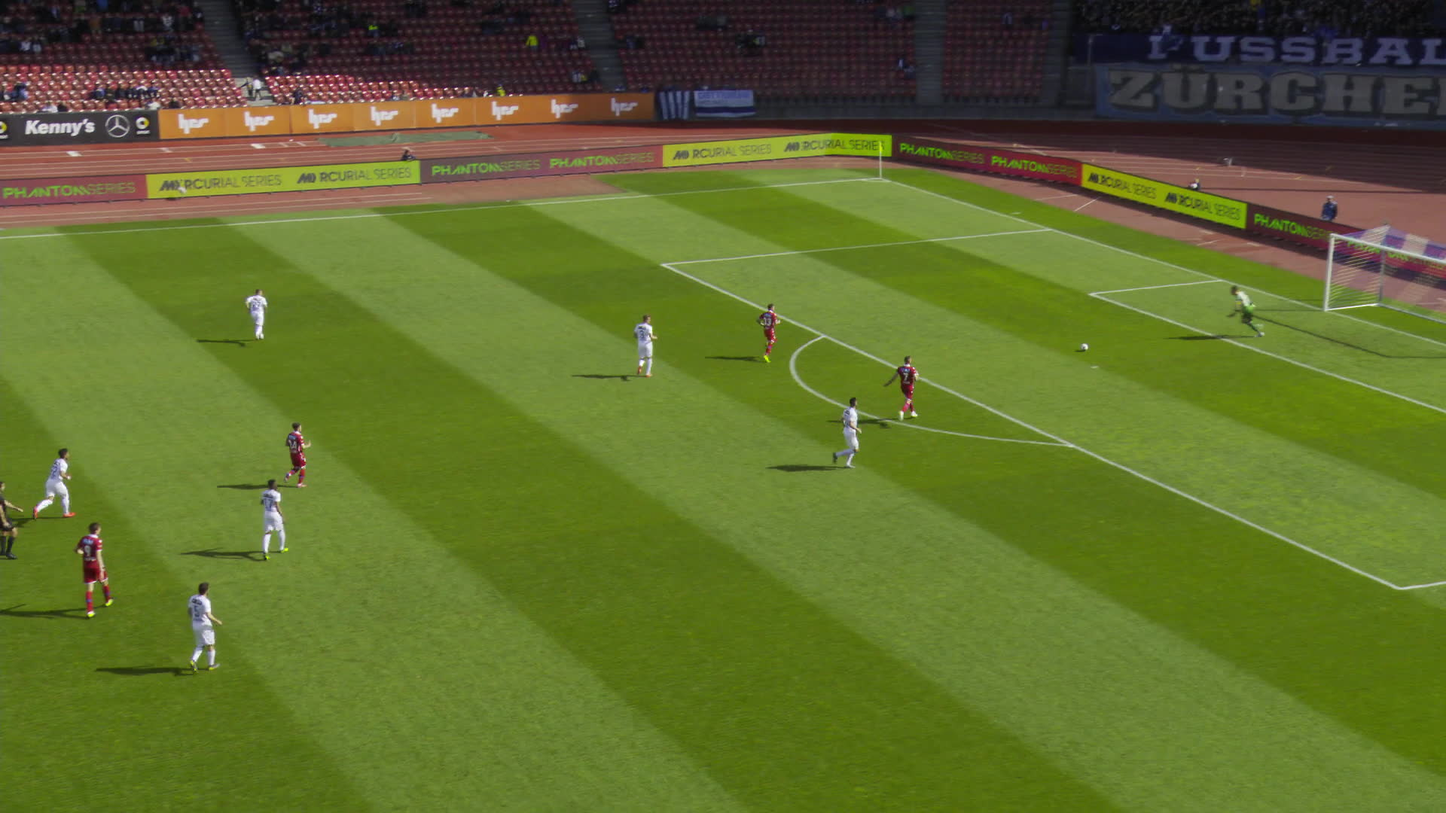ball: (1080, 343, 1088, 351)
player: (75, 520, 116, 616), (187, 579, 223, 672), (35, 447, 75, 522), (1226, 281, 1268, 340), (282, 417, 317, 486), (882, 356, 919, 421), (260, 477, 289, 559), (835, 396, 863, 468), (752, 303, 784, 360), (633, 312, 657, 380), (247, 288, 270, 343)
referee: (1, 485, 26, 559)
